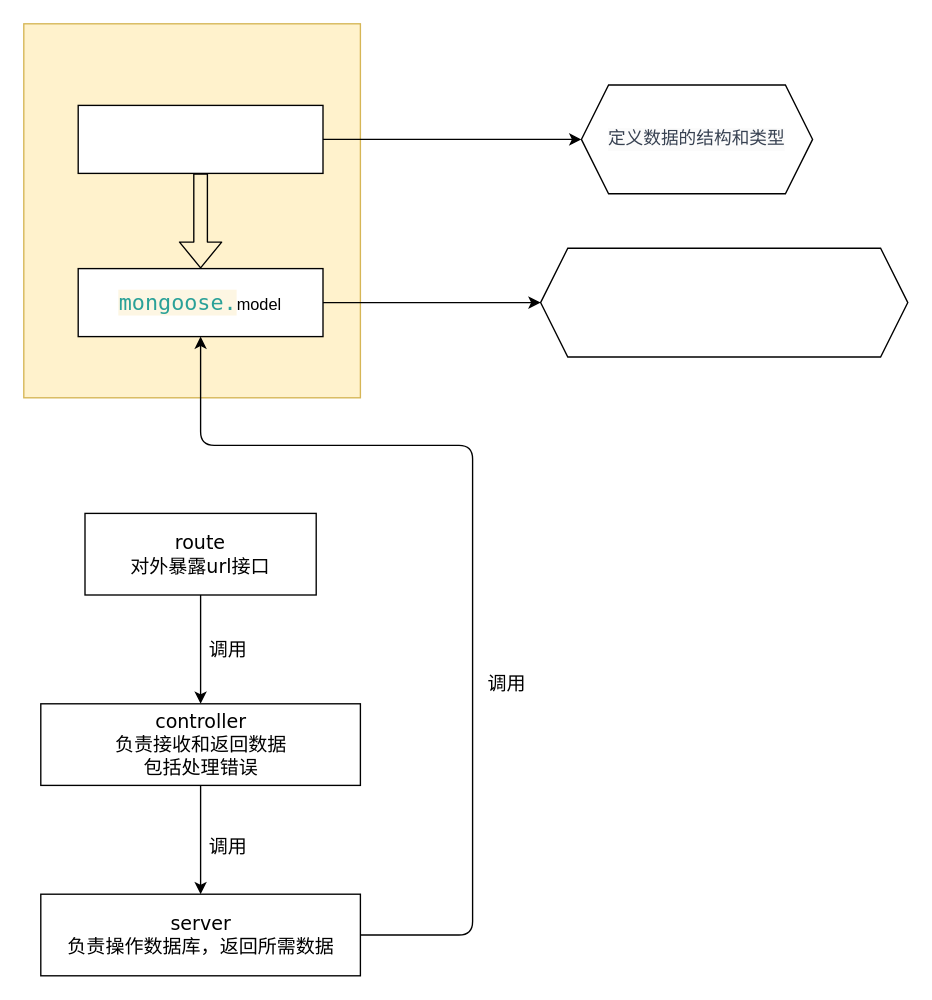
The diagram is 932 pixels wide and 1000 high, and some of its shapes have lost their labels. Each missing label, with the centre of its shape:
"Model 是基于 Schema 构建的，它提供了实际与数据库交互的方法" goes at (723,302).
"mongoose. schema" goes at (200,138).
